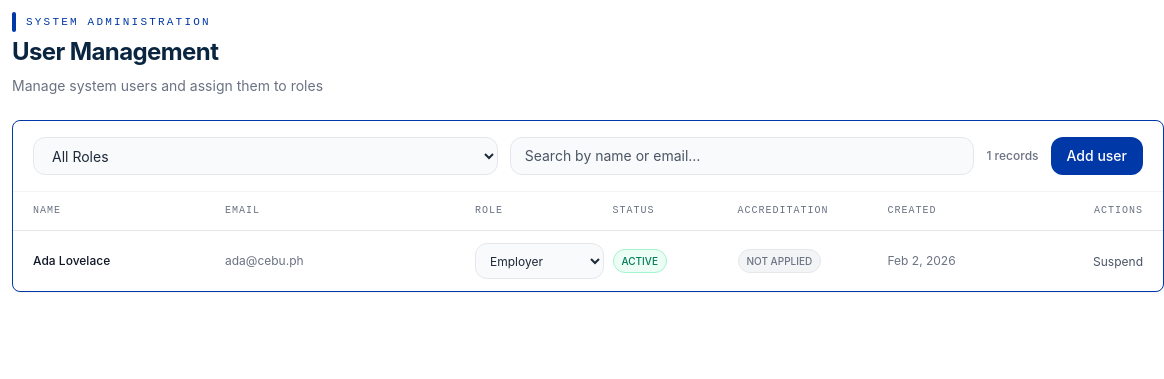
Test case: UserManagement accessibility › announces an action failure in a live region
Select "Job Seeker" in the dropdown named "role for ada lovelace" at (540, 261), box x1=475 y1=243 x2=604 y2=279
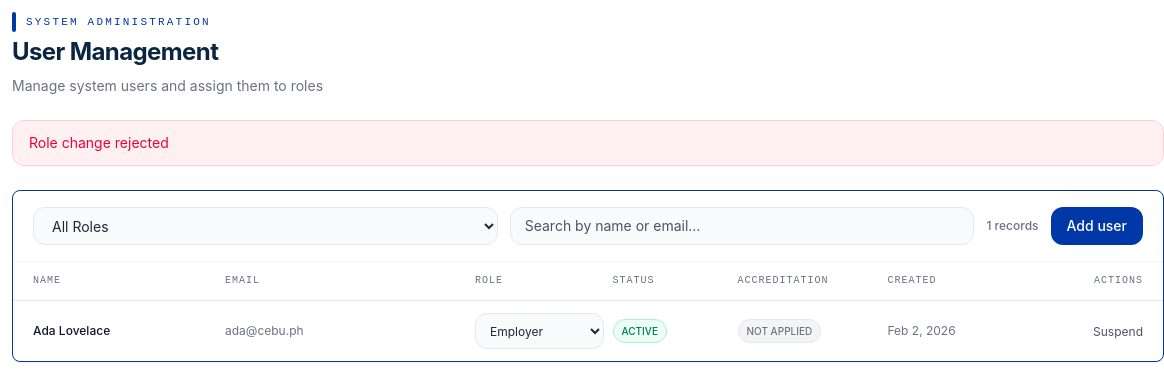
expect the message reads "Role change rejected": met, box x1=29 y1=134 x2=169 y2=151
